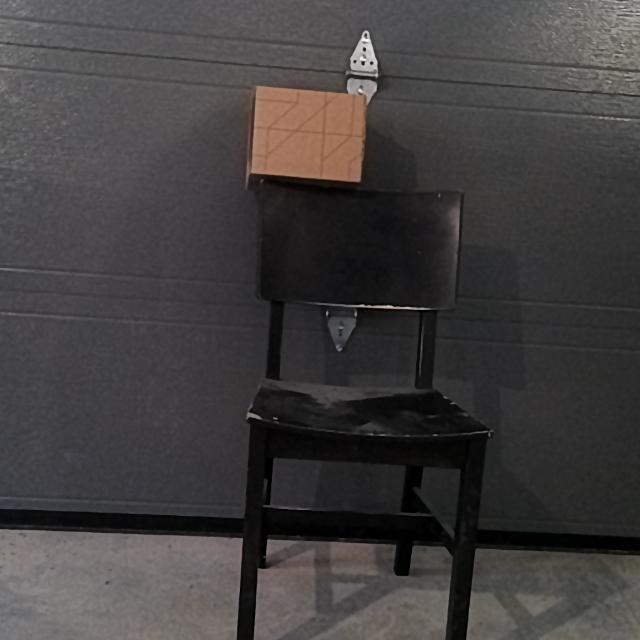box: (256, 93, 363, 178)
